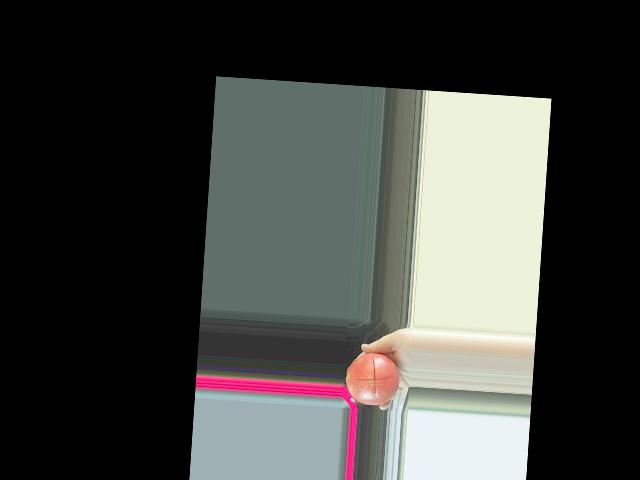tomato: (344, 351, 401, 407)
